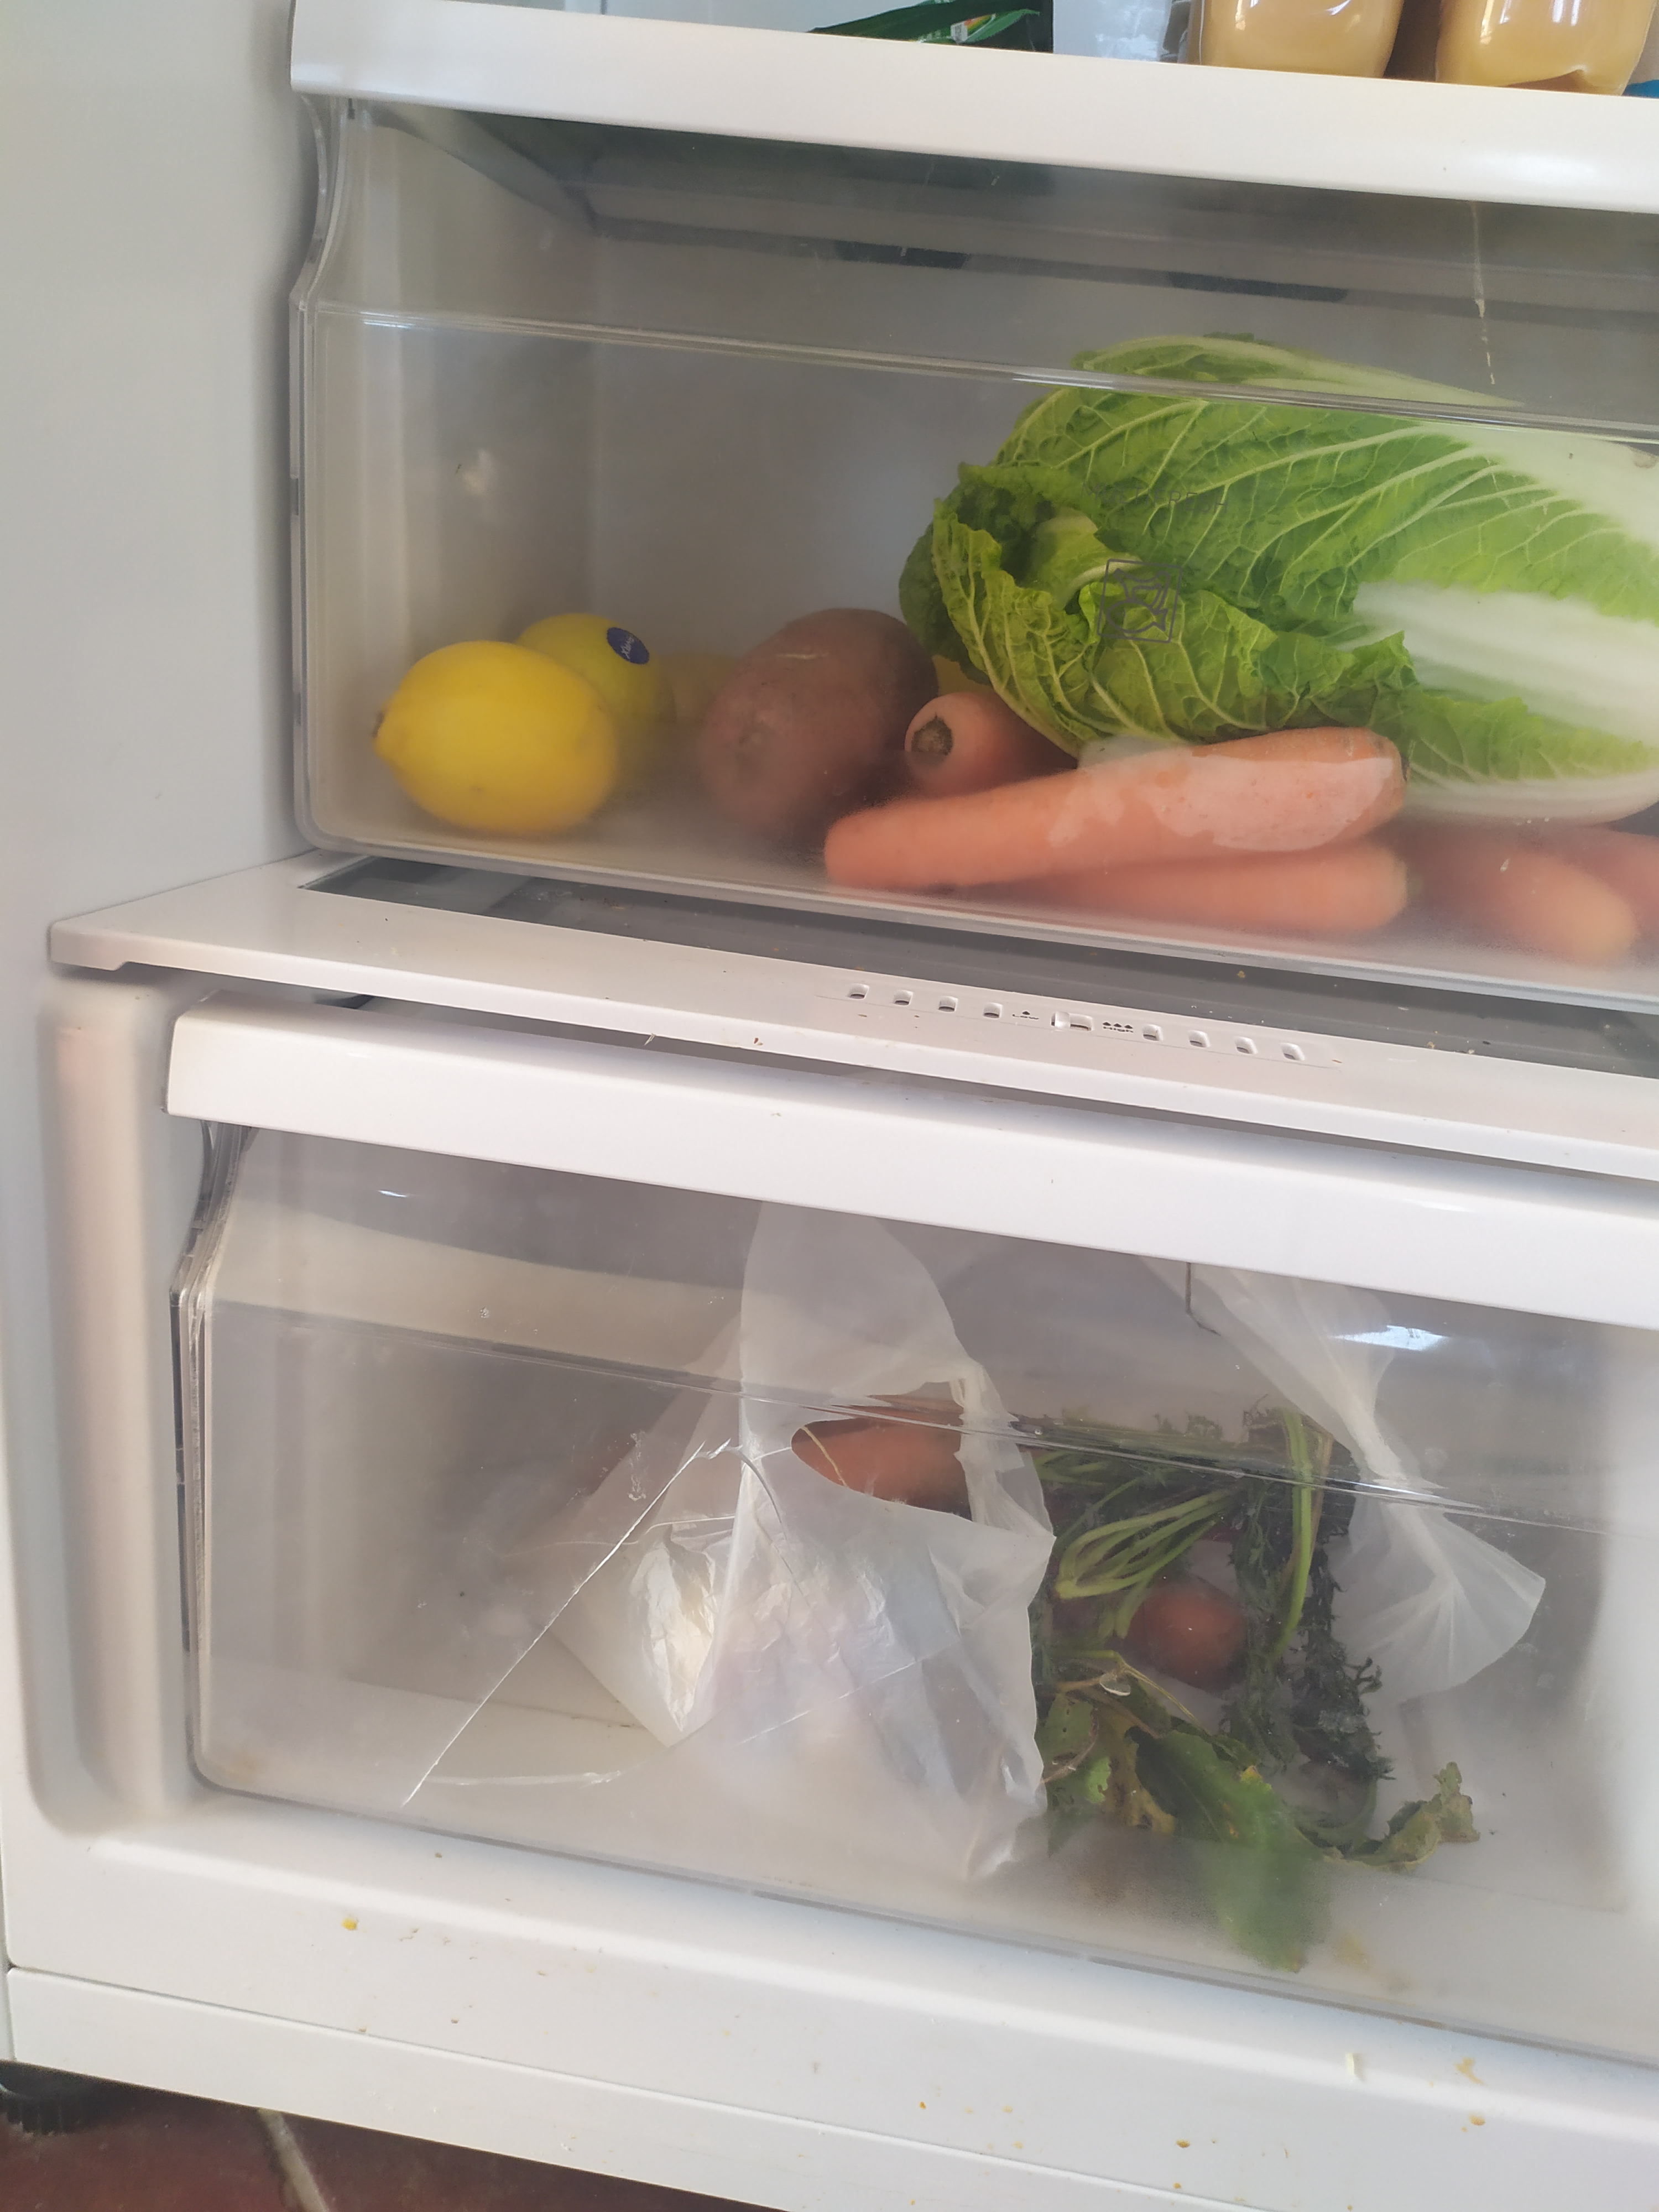carrot: (828, 723, 1398, 890), (962, 841, 1422, 930), (1370, 808, 1628, 963), (1551, 812, 1659, 949), (913, 690, 1051, 791)
compote: (1422, 0, 1659, 99), (1185, 0, 1406, 85)
lemon: (361, 636, 629, 840), (521, 611, 683, 752)
